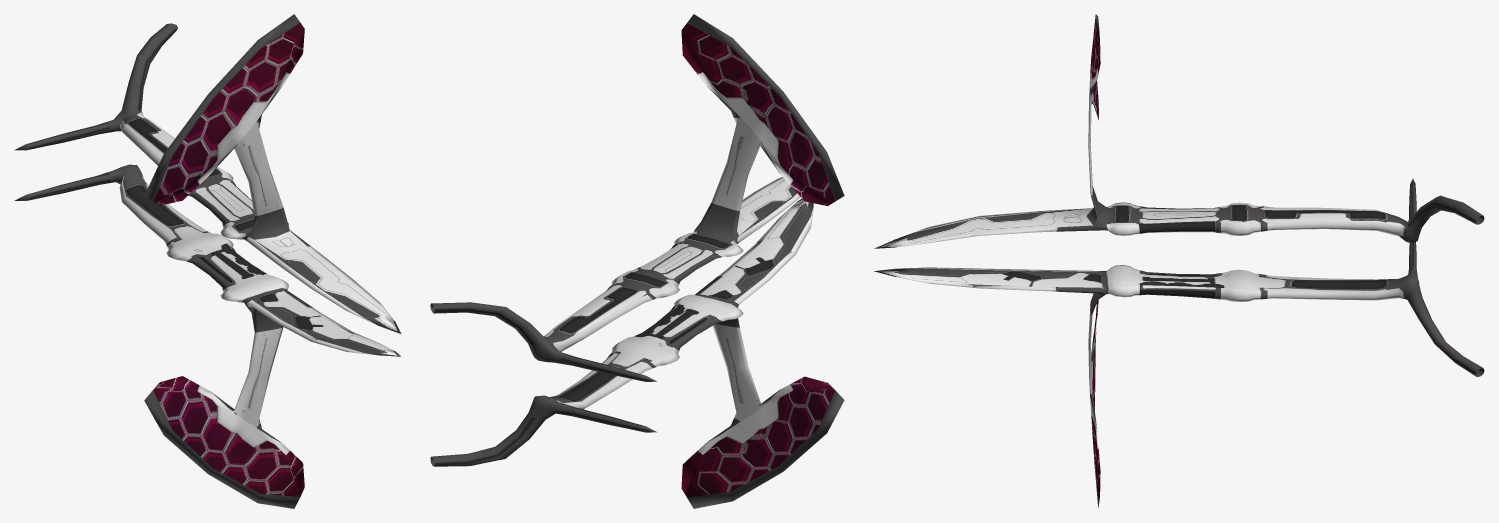
The model's file is SensoresRecursos.fbx.
3 views of the same model, side by side, from view 1: azimuth 30°, elevation 25°; view 2: azimuth 150°, elevation 25°; view 3: azimuth 270°, elevation 25° (orthographic).
Parts seen in each view (by area): view 1: SensorRecursos; view 2: SensorRecursos; view 3: SensorRecursos.
Part boxes in pixels (x1,y1,x2,y2): SensorRecursos: (14, 14, 401, 508); SensorRecursos: (430, 14, 844, 508); SensorRecursos: (874, 14, 1484, 507).
Bounding box in the file's own units: 1.46 × 3.08 × 3.46.
1 material, 1 textured.
